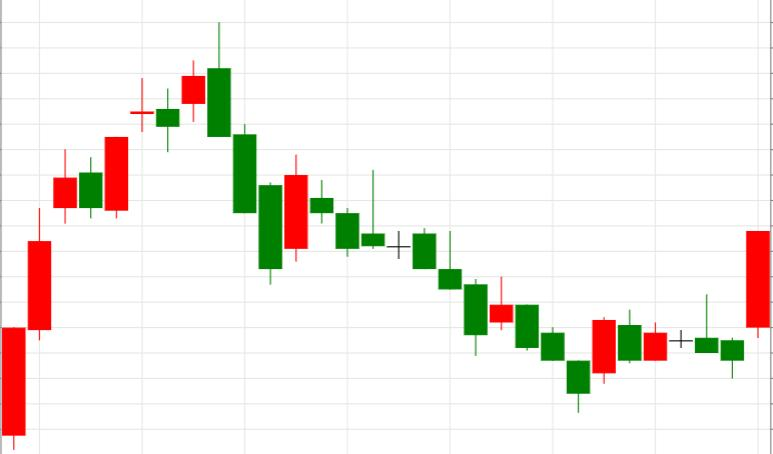three_black_crows_fall: (3, 21, 282, 451)
